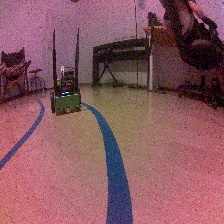rob: (49, 65, 81, 114)
